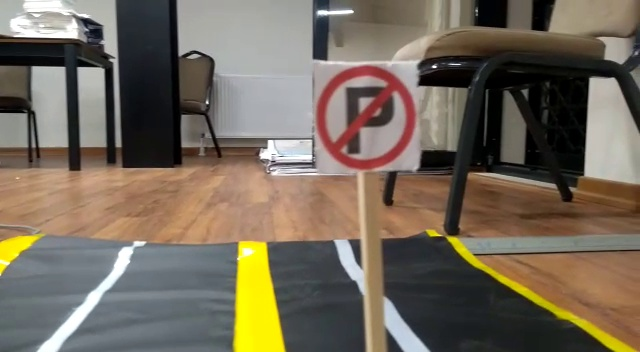park_yapilmaz: (313, 62, 419, 169)
